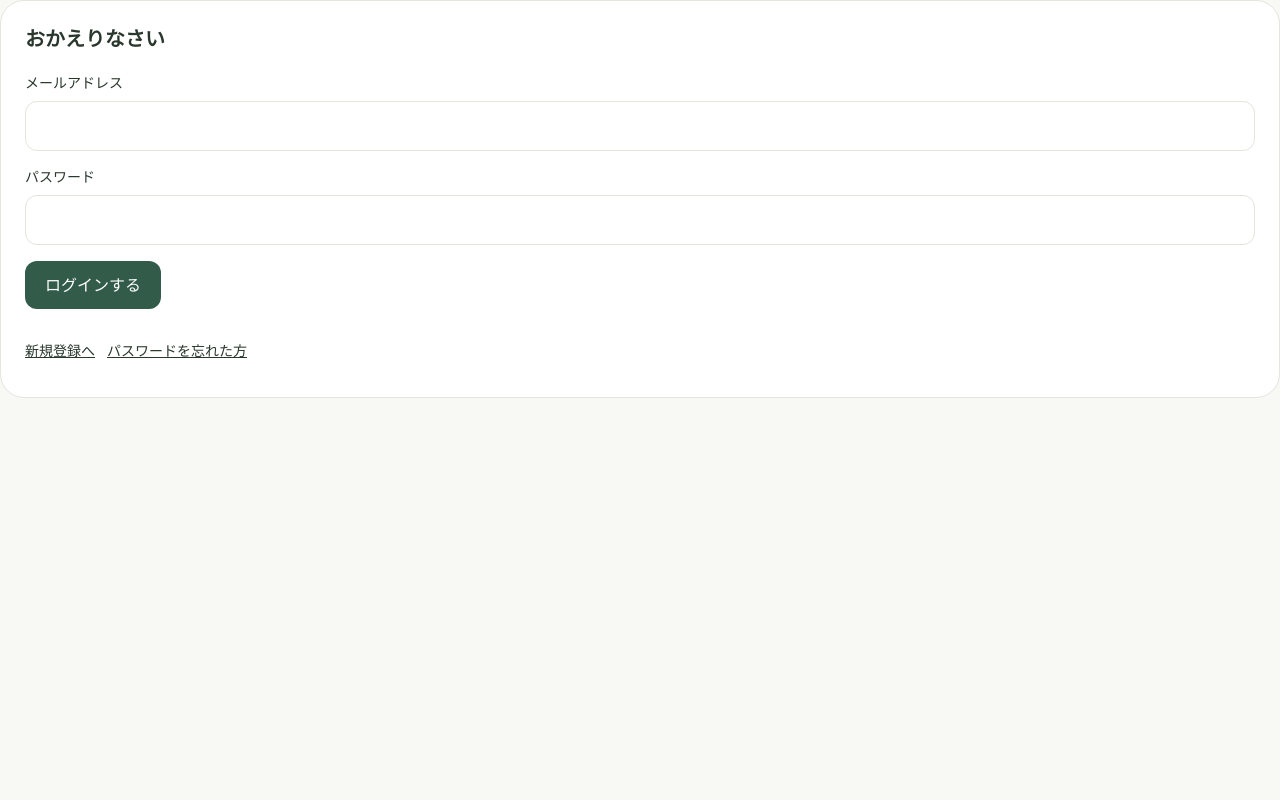
未入力の登録を止め、画面内に理由を表示する
What coordinates should you click on to do the following:
click the button "新規登録へ"
I would click on:
 (60, 351)
Its box is [25,329,95,373].
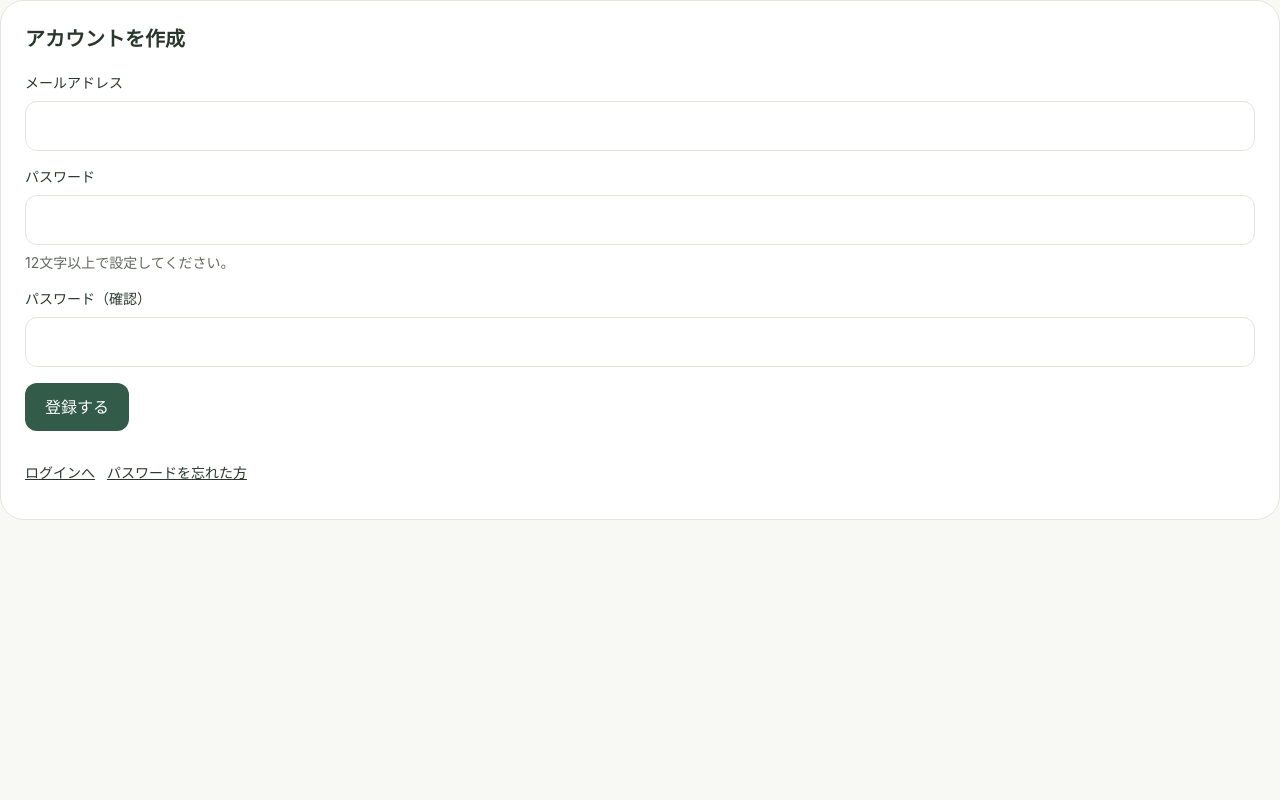
What coordinates should you click on to do the following:
click the button "登録する"
I would click on:
 (77, 407)
Its box is [25,383,129,431].
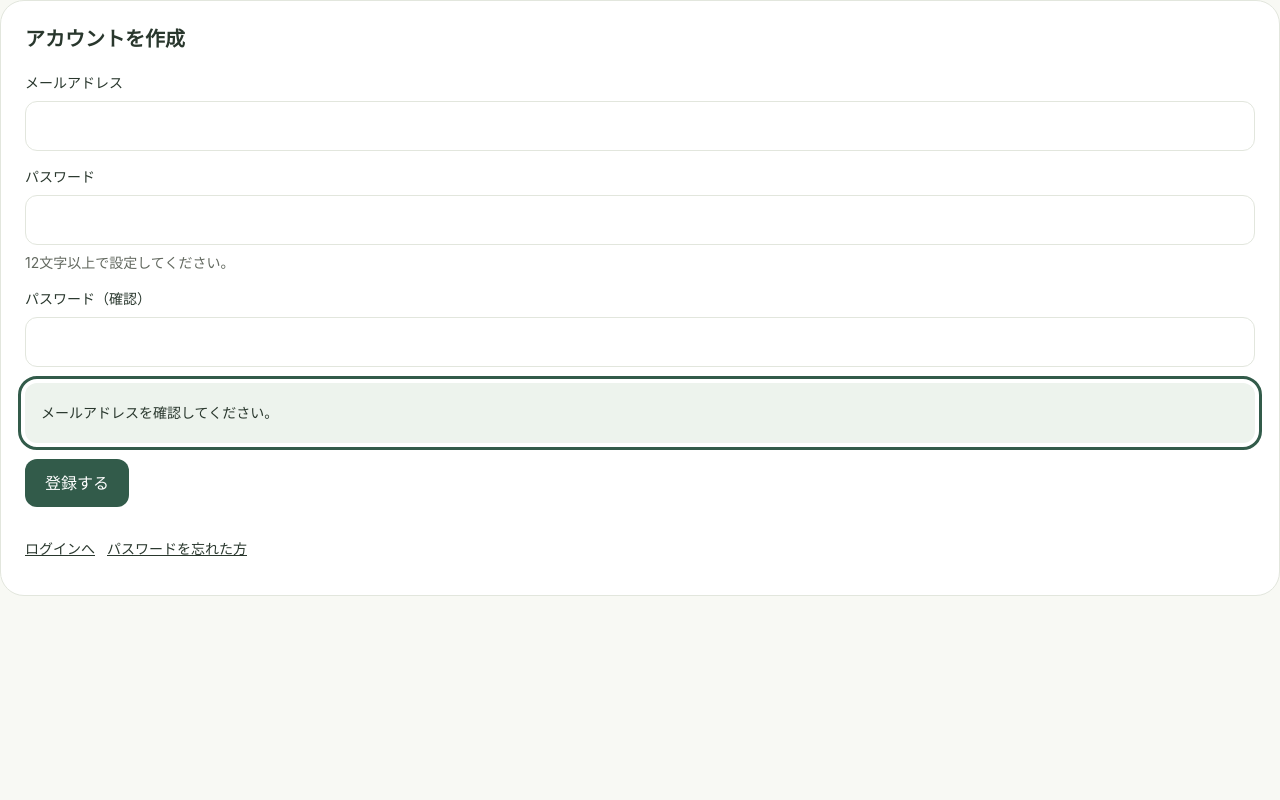
expect the message shows "メールアドレスを確認": met, box [41,404,278,421]
